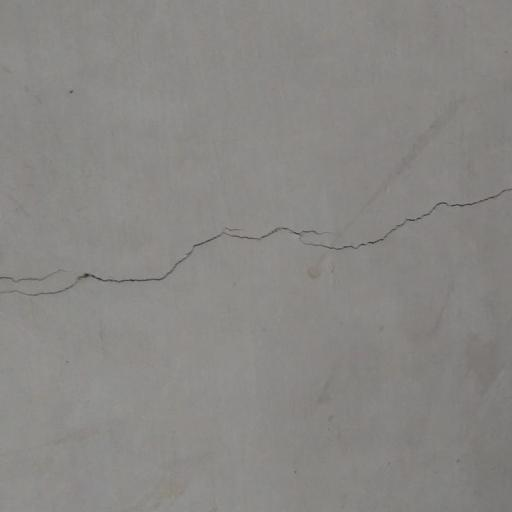minor_crack: (0, 174, 512, 314)
